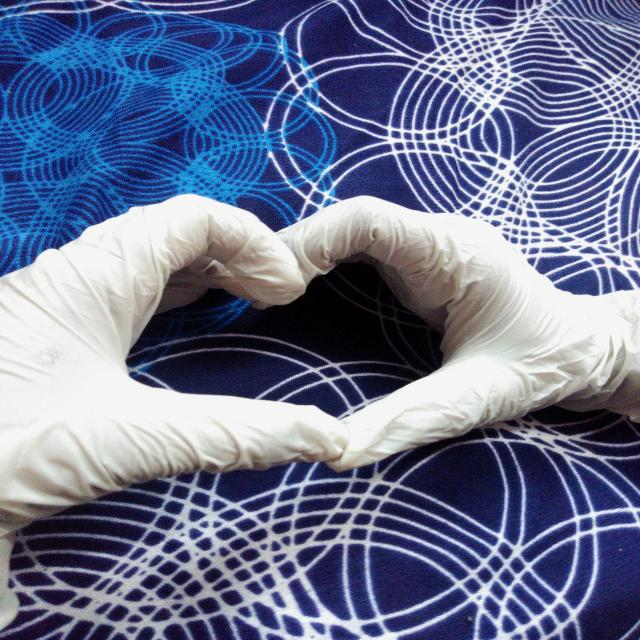glove: (6, 190, 349, 538), (259, 185, 640, 480)
